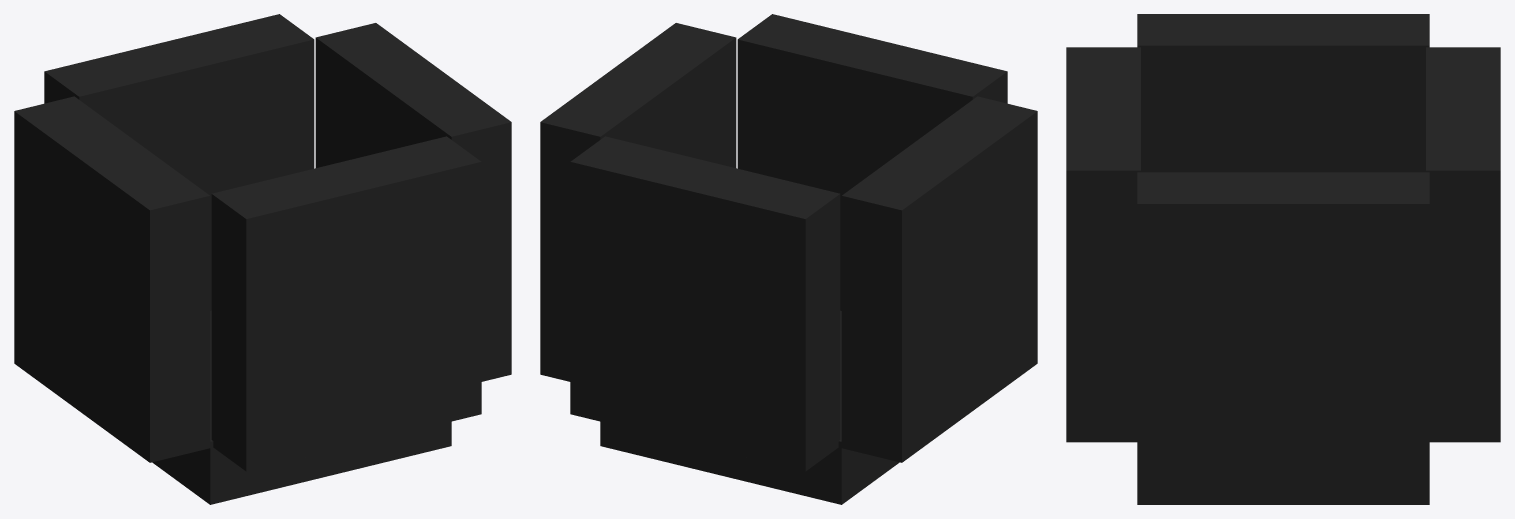
File: pocket.gltf
3 views of the same model, side by side, from view 1: azimuth 30°, elevation 25°; view 2: azimuth 150°, elevation 25°; view 3: azimuth 270°, elevation 25° (orthographic). The views are drawn at different scales.
Visible parts, largest first — view 1: cuboid (×5); view 2: cuboid (×5); view 3: cuboid (×5).
Boxes of the visible parts, x1,y1,x2,y2 form: cuboid (×5): (14,14,511,504); cuboid (×5): (540,14,1037,504); cuboid (×5): (1066,14,1500,504).
Bounding box in the file's own units: 0.375 × 0.3063 × 0.3625.
Materials: 1 (1 with a texture image).
